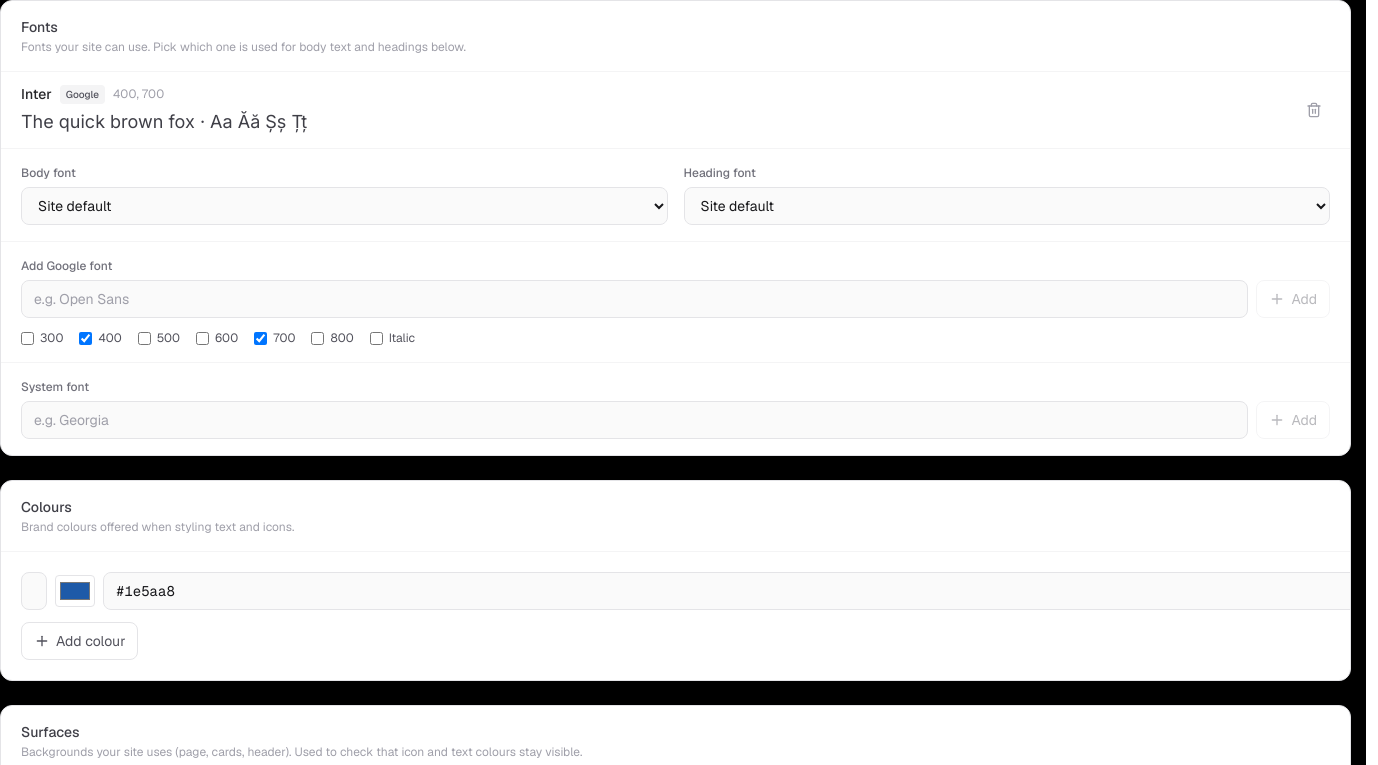
Scenario: ThemeEditor › reports a family Google Fonts does not have
Type "Nope Font" into the field named "Google font family".
click(635, 299); type("Nope Font")  # box [21,280,1248,318]
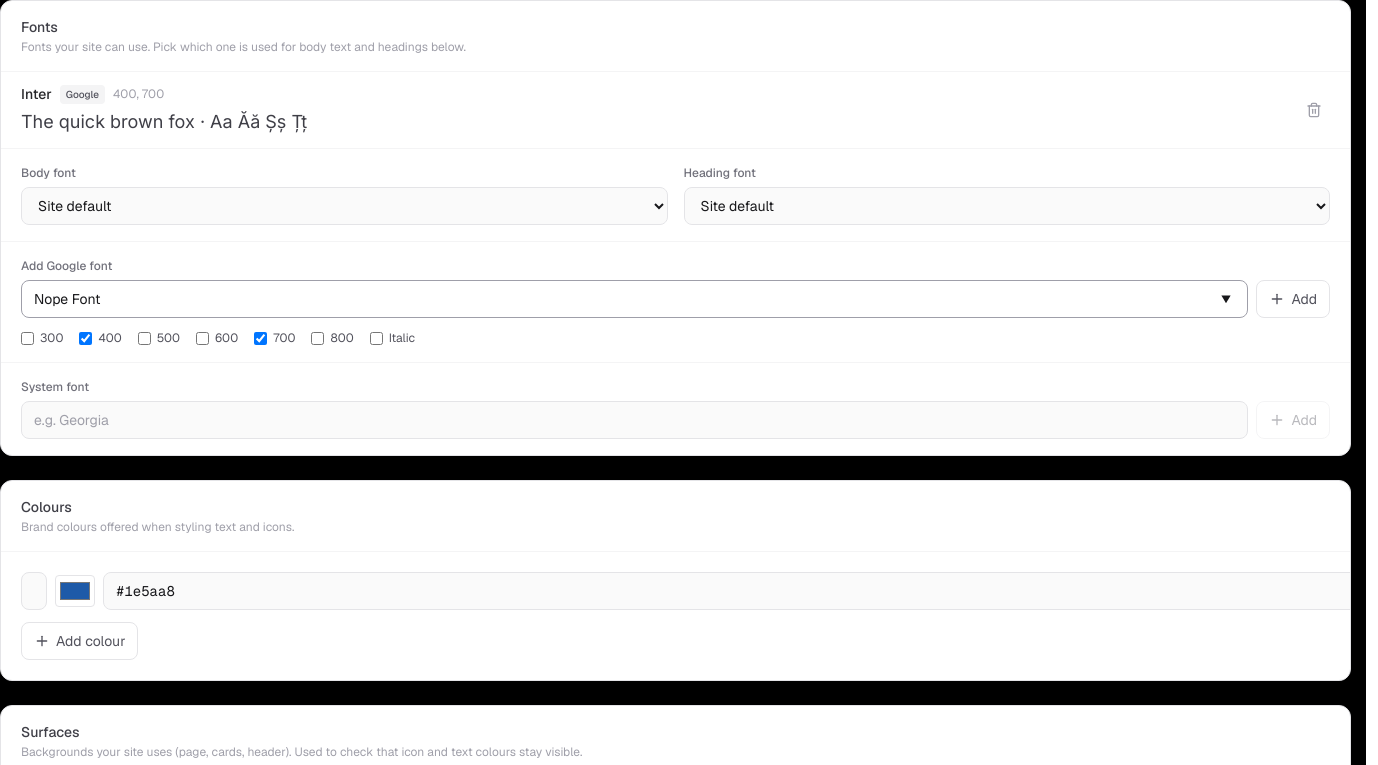
Click the button with aria-label "Add Google font".
click(1293, 299)  # box [1256,280,1330,318]
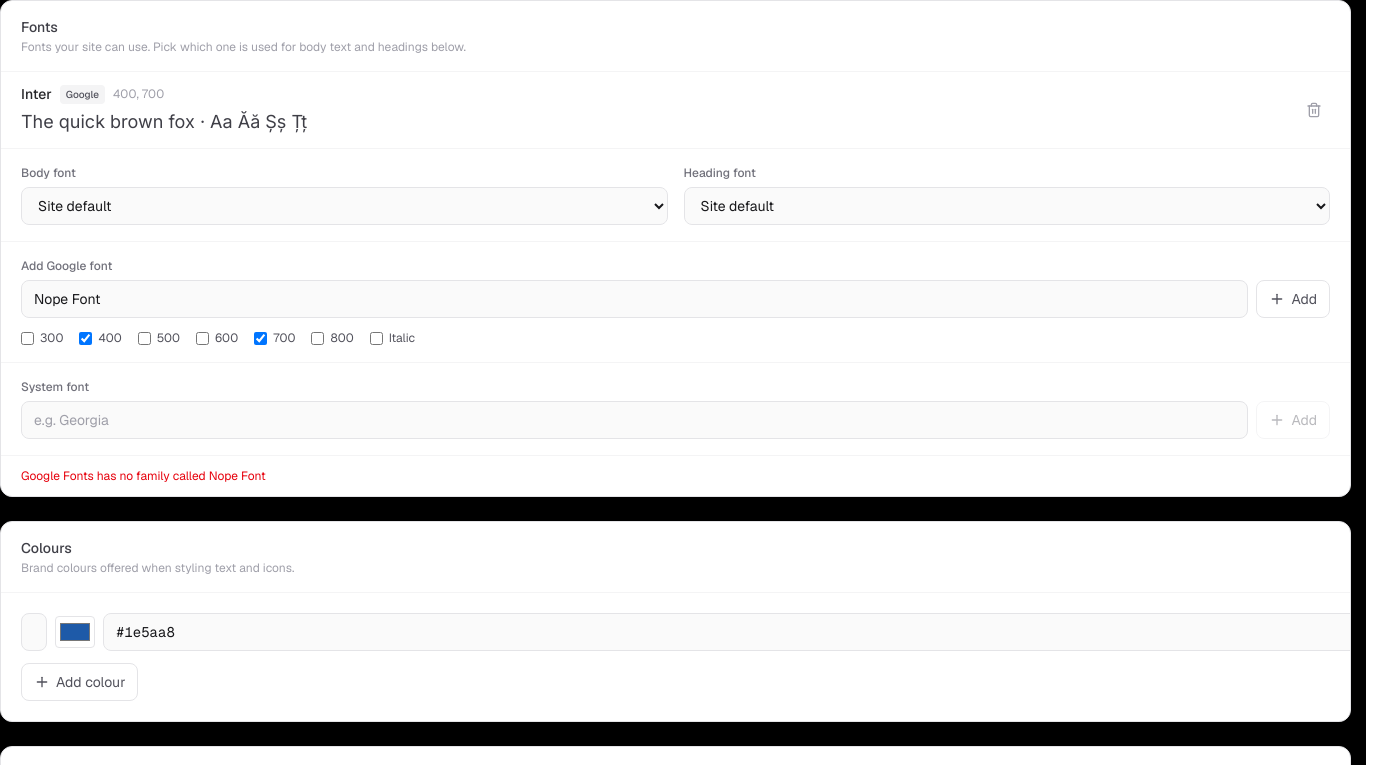
Check: the text "Google Fonts has no family called Nope Font" is shown, box [21,468,266,484]
